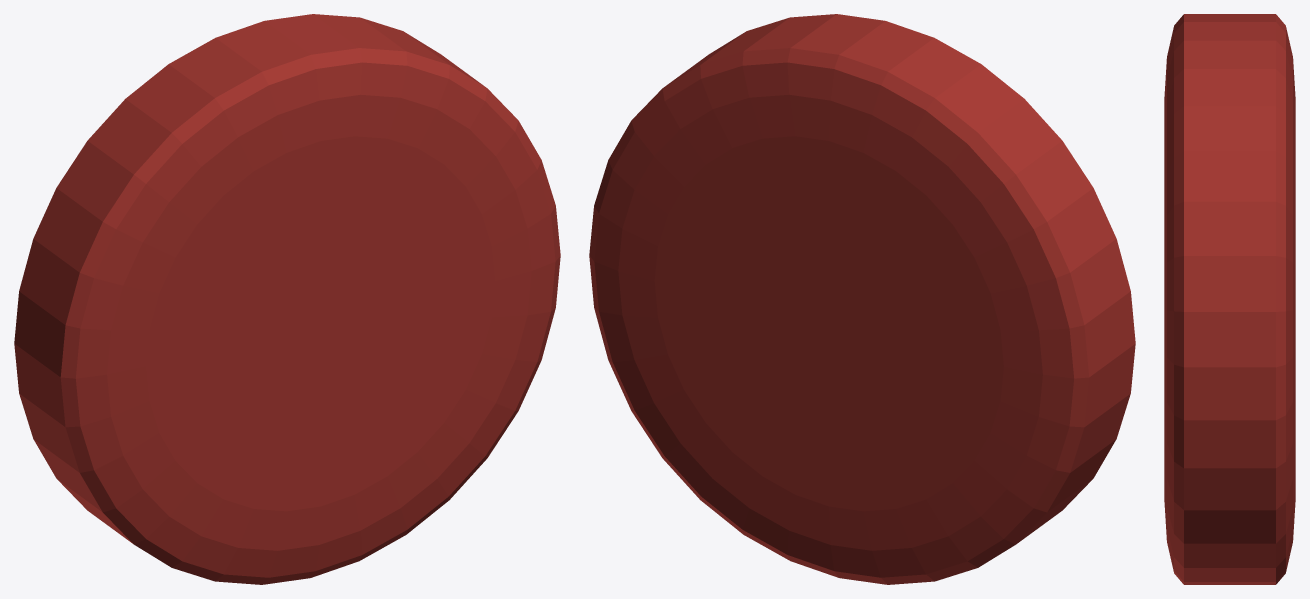
The model's file is burger_1.fbx.
3 renders of one model, left to right at view 1: azimuth 30°, elevation 25°; view 2: azimuth 150°, elevation 25°; view 3: azimuth 270°, elevation 25°, orthographic.
Parts seen in each view (by area): view 1: Cylinder.002; view 2: Cylinder.002; view 3: Cylinder.002.
Boxes of the visible parts, bbox=[...] form: Cylinder.002: bbox=[14, 14, 560, 584]; Cylinder.002: bbox=[589, 14, 1135, 584]; Cylinder.002: bbox=[1164, 14, 1295, 584].
Bounding box in the file's own units: 5231 × 5231 × 1203.
